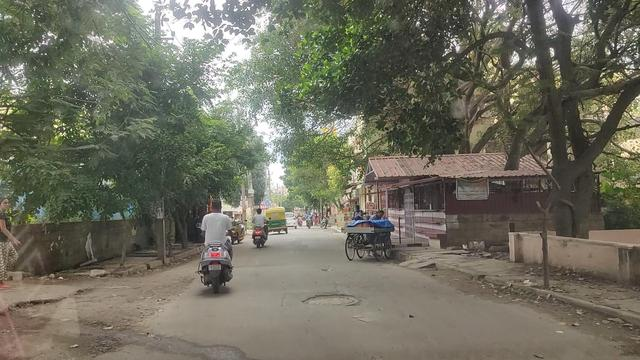LMV: (198, 193, 234, 298)
RoadDamages: (75, 310, 170, 345), (137, 276, 185, 306), (304, 289, 359, 308)
